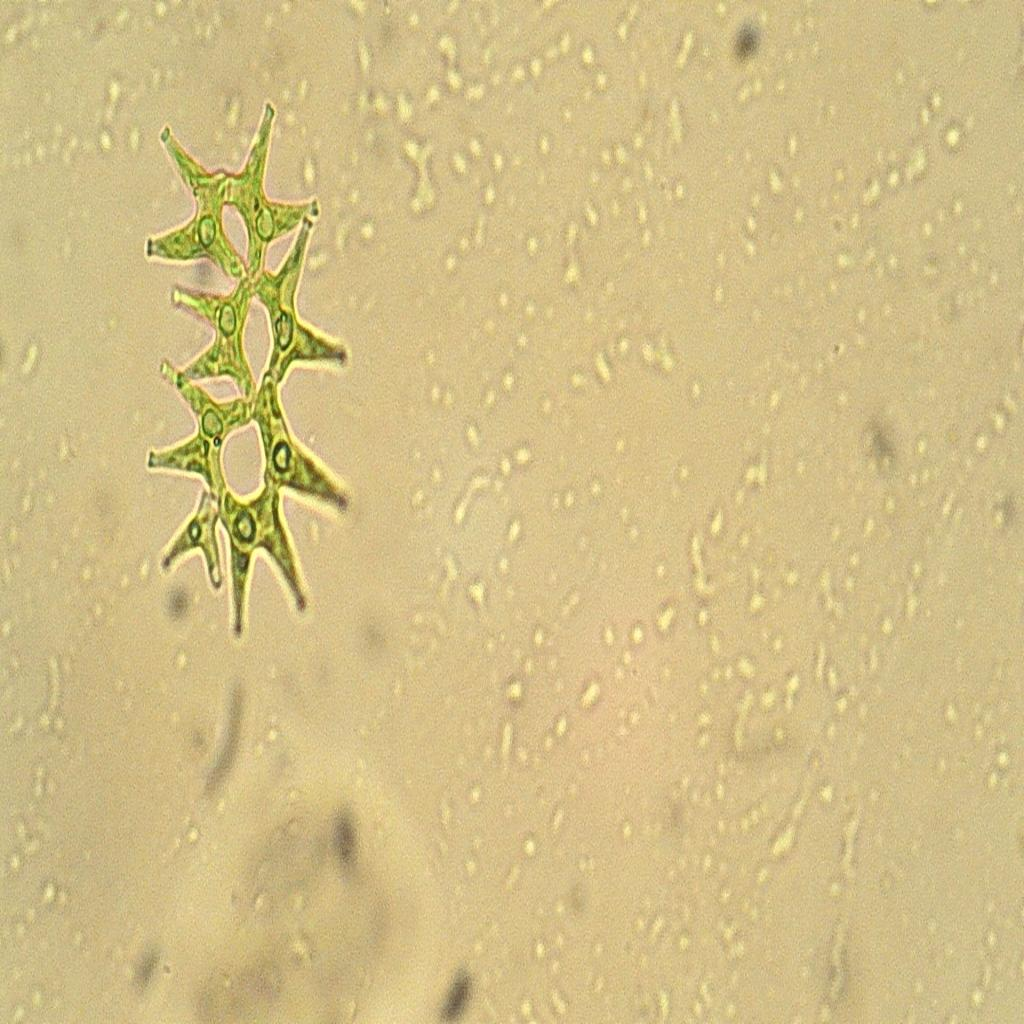Pediastrum_CFI: (142, 80, 362, 668)
